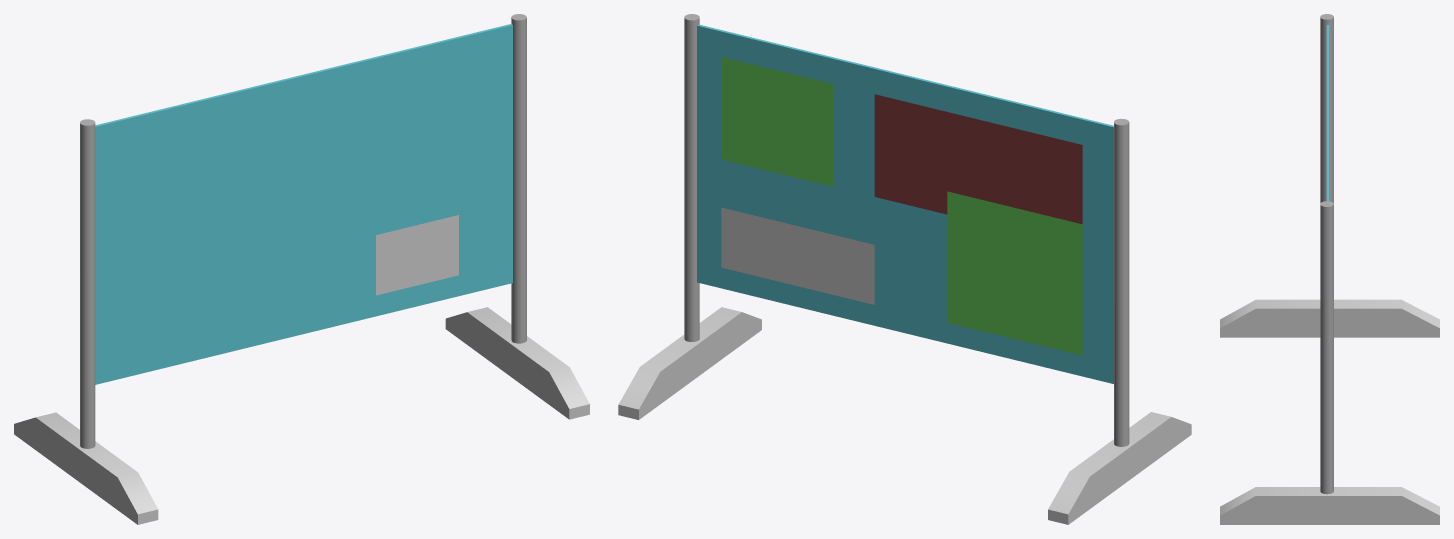
File: Mesh_MedBoard_m01_v01.fbx
3 renders of one model, left to right at view 1: azimuth 30°, elevation 25°; view 2: azimuth 150°, elevation 25°; view 3: azimuth 270°, elevation 25°, orthographic. The views are drawn at different scales.
Parts seen in each view (by area): view 1: pCube12, pCube11, pCube10, pCylinder13, pCylinder14; view 2: pCube12, pCube11, pCube10, pCylinder13, pCylinder14; view 3: pCube11, pCube10, pCylinder14, pCylinder13, pCube12.
Part boxes in pixels (left/top/right/bottom): pCube12: left=95, top=24, right=512, bottom=384; pCube11: left=445, top=307, right=589, bottom=419; pCube10: left=14, top=412, right=158, bottom=524; pCylinder13: left=80, top=119, right=95, bottom=448; pCylinder14: left=511, top=14, right=526, bottom=343; pCube12: left=697, top=24, right=1113, bottom=383; pCube11: left=618, top=307, right=761, bottom=419; pCube10: left=1048, top=412, right=1191, bottom=524; pCylinder13: left=1114, top=118, right=1129, bottom=446; pCylinder14: left=684, top=14, right=699, bottom=341; pCube11: left=1220, top=487, right=1439, bottom=524; pCube10: left=1220, top=299, right=1439, bottom=337; pCylinder14: left=1320, top=201, right=1333, bottom=494; pCylinder13: left=1320, top=14, right=1333, bottom=203; pCube12: left=1326, top=25, right=1329, bottom=201.
Size of the model in its own units: 3.99 by 3 by 1.89.
